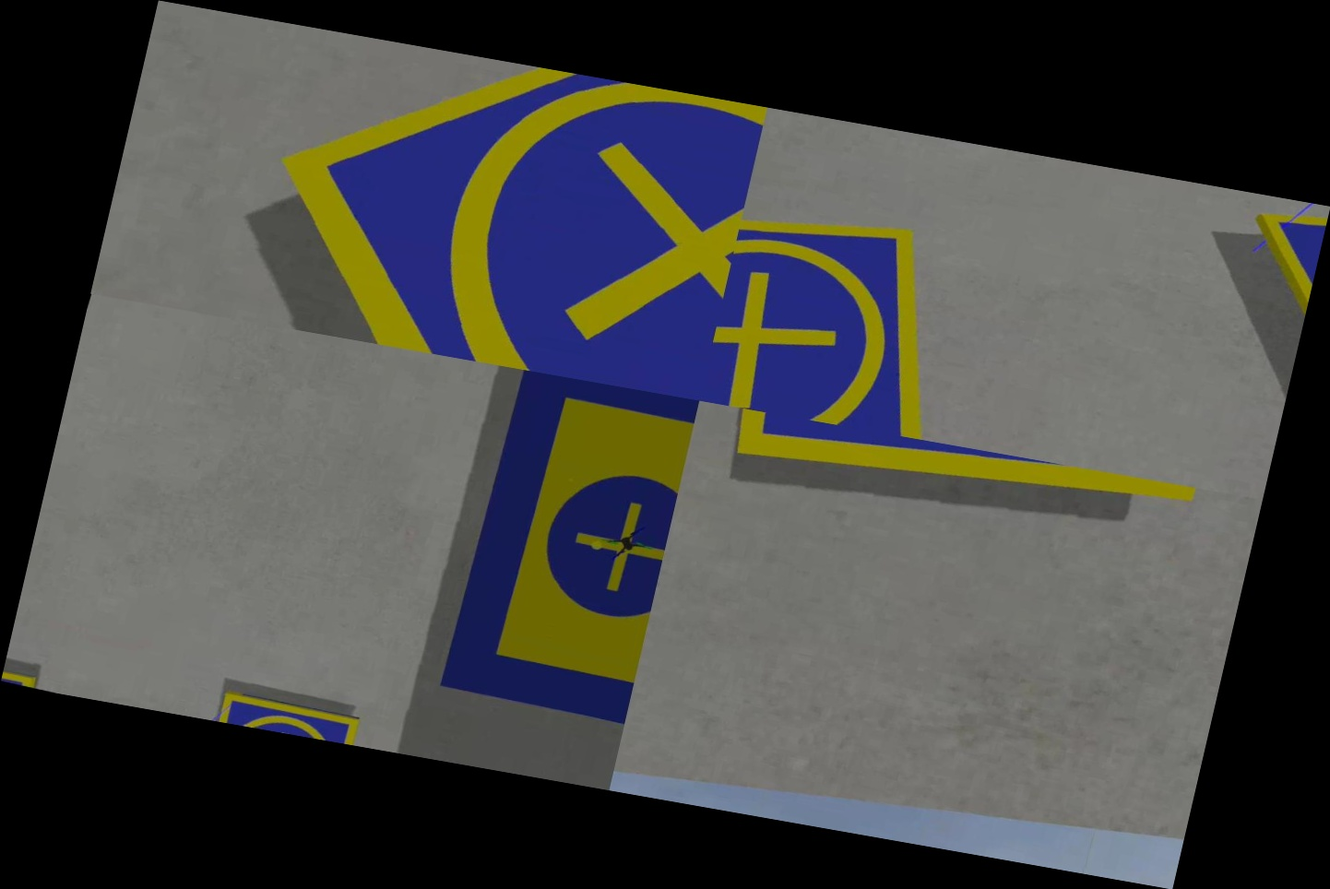large_base: (427, 366, 699, 734)
small_base: (230, 25, 767, 401), (683, 401, 1213, 560), (699, 188, 1000, 445), (1203, 193, 1329, 418), (215, 688, 363, 745)
